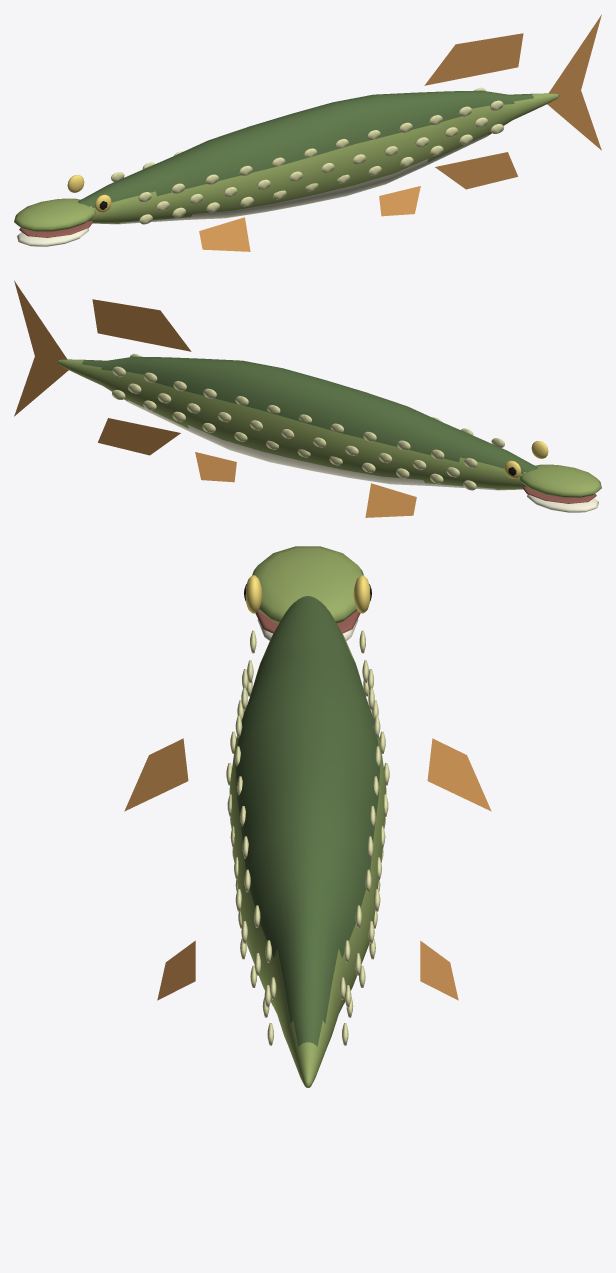
The model's file is hecht.glb.
3 renders of one model, top to bottom at view 1: azimuth 30°, elevation 25°; view 2: azimuth 150°, elevation 25°; view 3: azimuth 270°, elevation 25°, orthographic. The views are drawn at different scales.
Parts seen in each view (by area): view 1: Hecht; view 2: Hecht; view 3: Hecht.
Boxes of the visible parts, x1=… form: Hecht: x1=14, y1=14, x2=601, y2=251; Hecht: x1=14, y1=280, x2=601, y2=517; Hecht: x1=124, y1=546, x2=491, y2=1087.
Bounding box in the file's own units: 1.12 × 0.27 × 0.3044.
